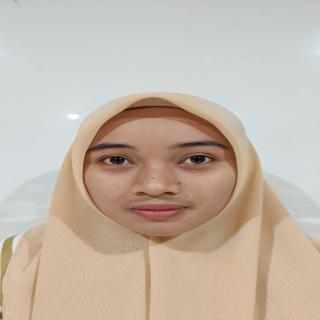Netral: (74, 105, 269, 245)
